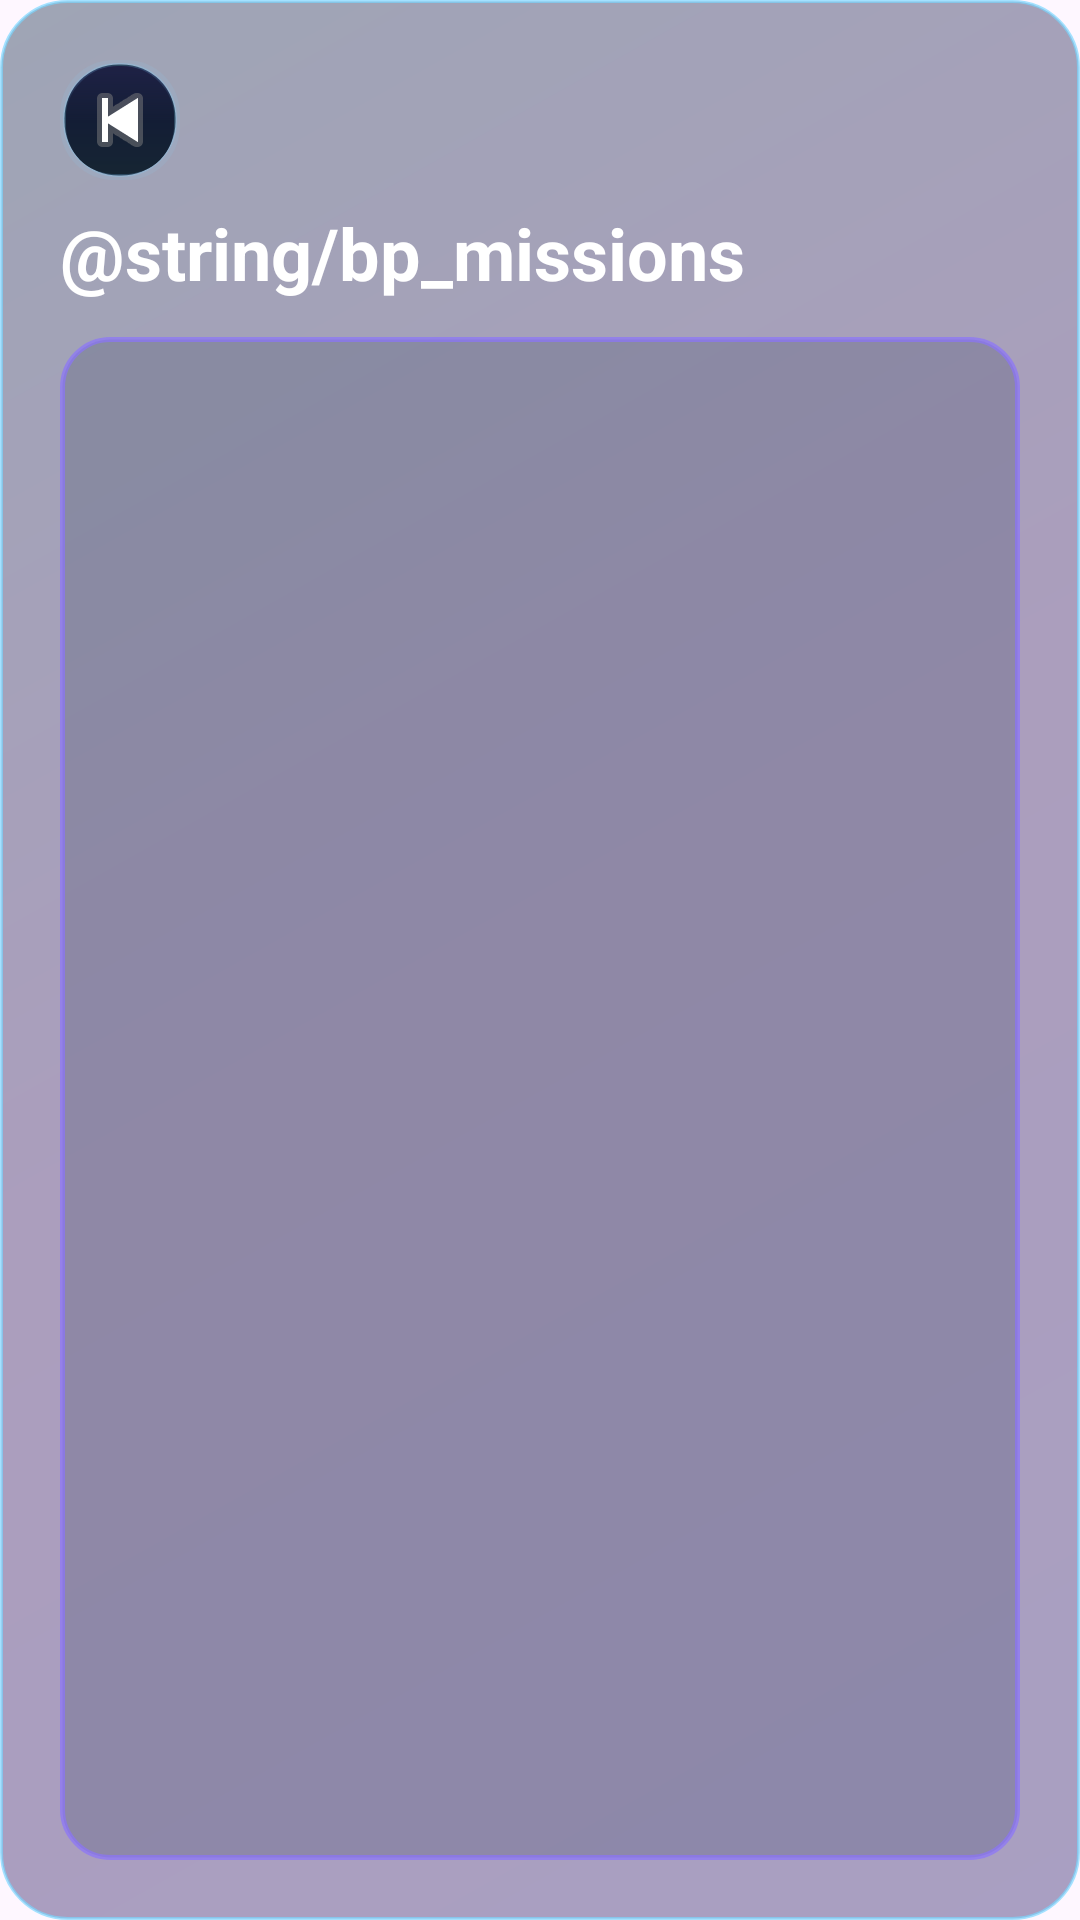

Named icons in this screenshot (1080 × 1920) and their bounding boxes, bbox=(x1, y1, x2, y2):
previous: bbox=(64, 64, 176, 176)
